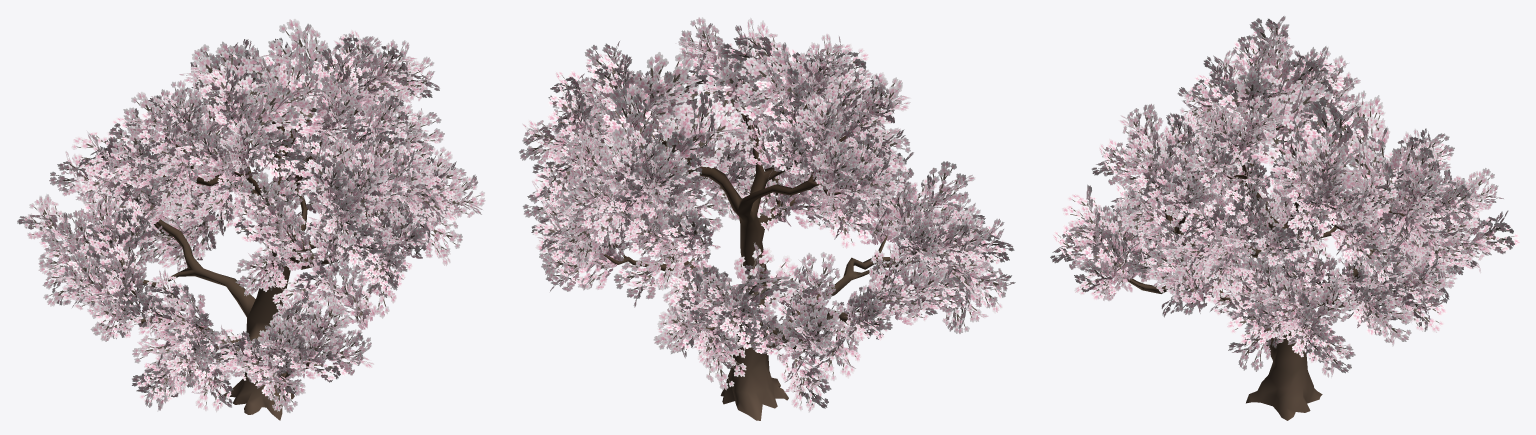
File: SK_SakuraTree_001.FBX
The picture shows the model from 3 angles, left to right: view 1: azimuth 30°, elevation 25°; view 2: azimuth 150°, elevation 25°; view 3: azimuth 270°, elevation 25°; orthographic projection. The views are drawn at different scales.
Visible parts, largest first — view 1: SK_sakura_flower, SK_sakura_body; view 2: SK_sakura_flower, SK_sakura_body; view 3: SK_sakura_flower, SK_sakura_body.
Boxes of the visible parts, x1,y1,x2,y2 form: SK_sakura_flower: [17, 19, 485, 412]; SK_sakura_body: [114, 97, 390, 420]; SK_sakura_flower: [519, 17, 1015, 412]; SK_sakura_body: [596, 88, 916, 420]; SK_sakura_flower: [1050, 16, 1519, 377]; SK_sakura_body: [1117, 95, 1448, 420].
Bounding box in the file's own units: 789 × 672 × 822.
